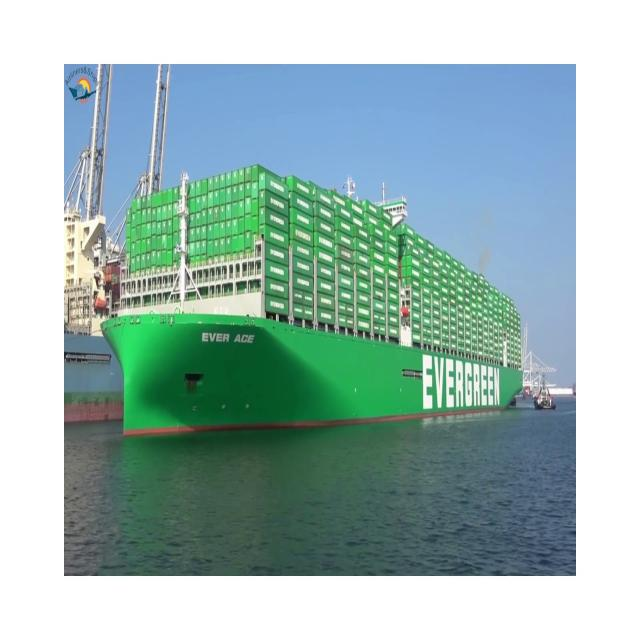OCR: (411, 339, 505, 420), (198, 317, 261, 356)
